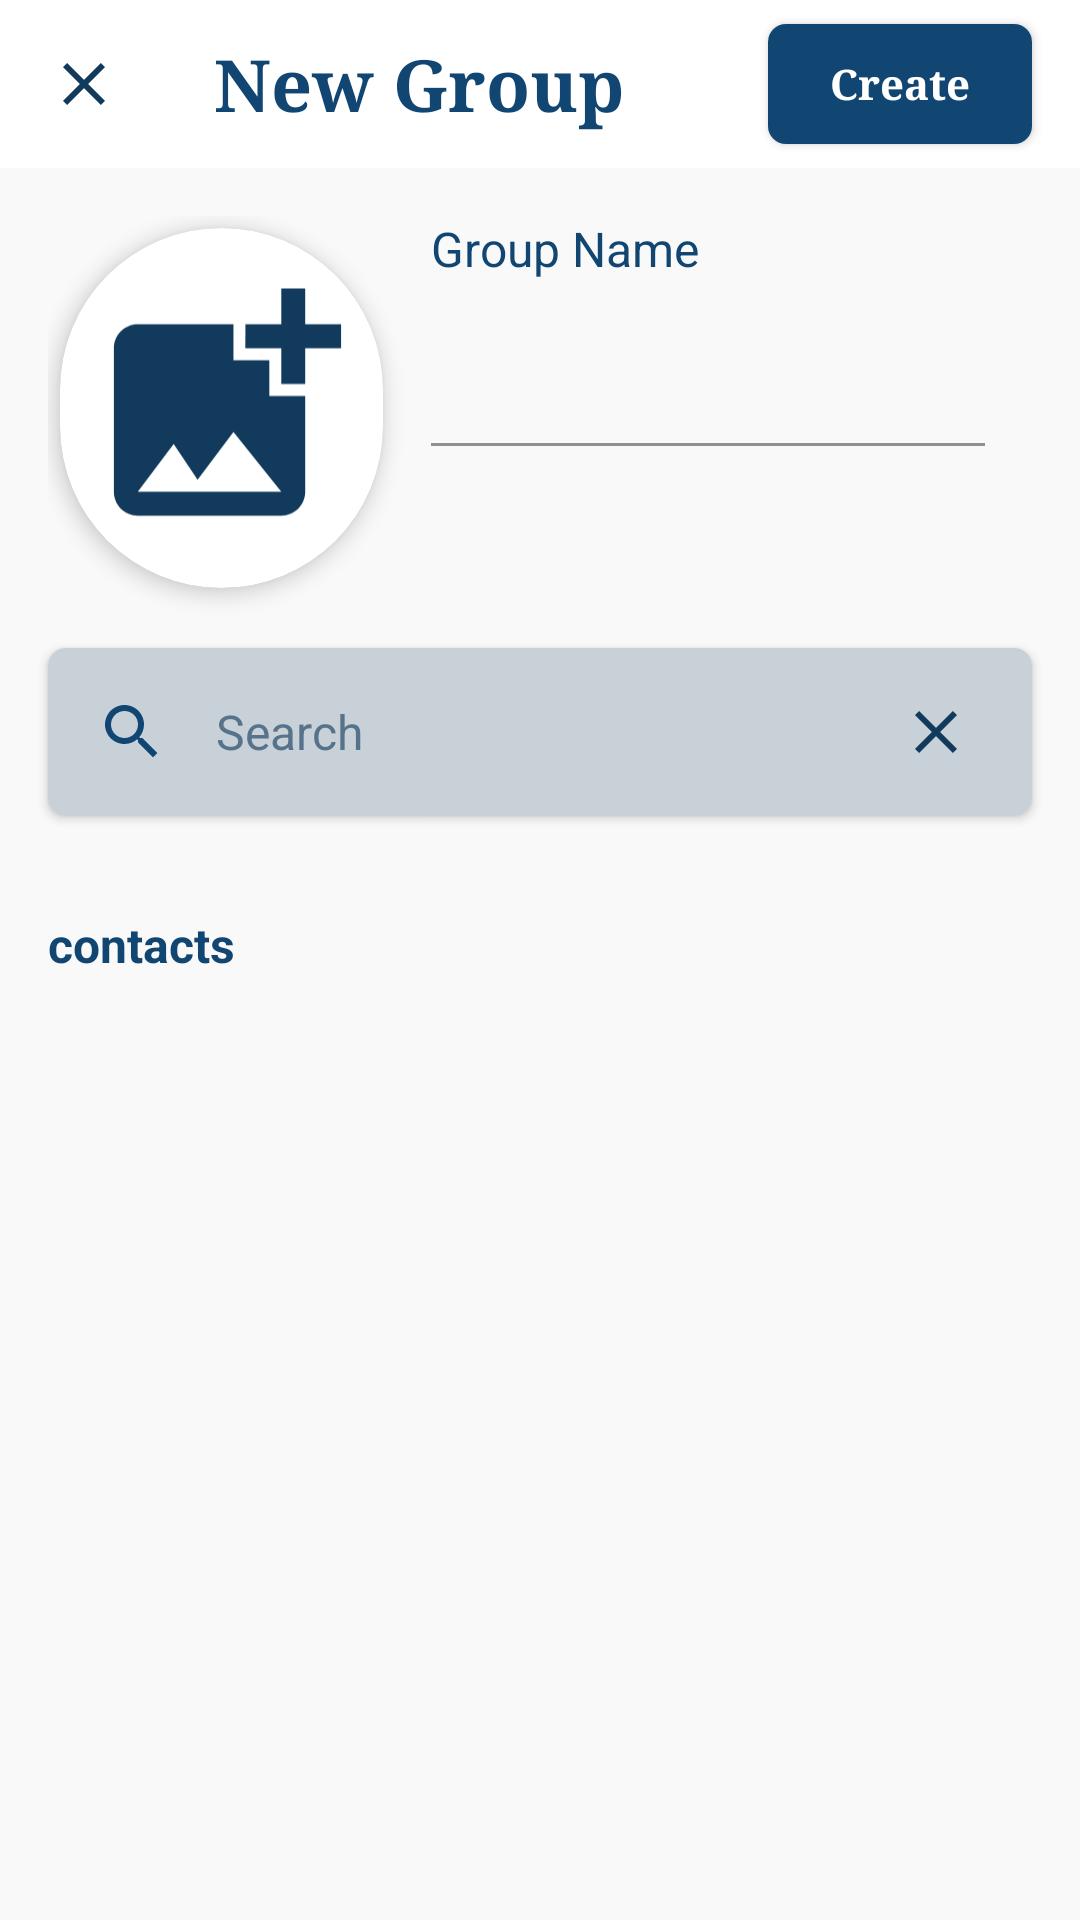

Named icons in this screenshot (1080w x 1920h) and their centers, point (x, y):
add photo alternate: point (221, 408)
close: point (84, 84), point (936, 732)
